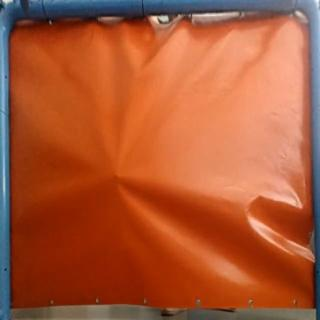Hit-hRxx: (109, 168, 128, 184)
